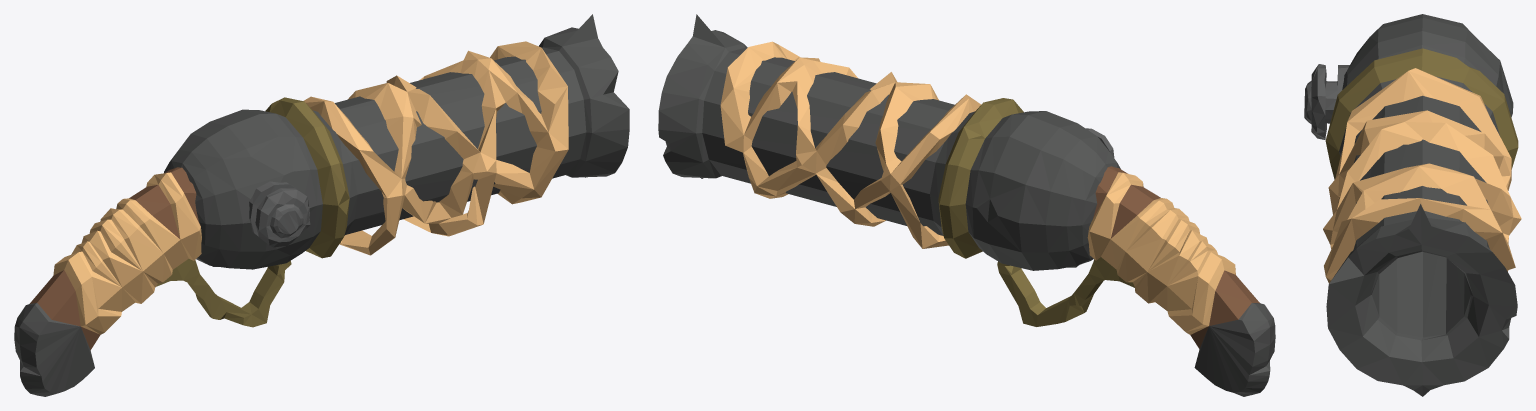
File: Hand_Cannon_001.fbx
The picture shows the model from 3 angles, left to right: view 1: azimuth 30°, elevation 25°; view 2: azimuth 150°, elevation 25°; view 3: azimuth 270°, elevation 25°; orthographic projection. The views are drawn at different scales.
Visible parts, largest first — view 1: Hand_Cannon_001; view 2: Hand_Cannon_001; view 3: Hand_Cannon_001.
Part boxes in pixels (x1,y1,x2,y2): Hand_Cannon_001: [14, 14, 629, 396]; Hand_Cannon_001: [658, 14, 1275, 396]; Hand_Cannon_001: [1304, 14, 1521, 396].
Size of the model in its own units: 32.07 by 13.32 by 8.7.
